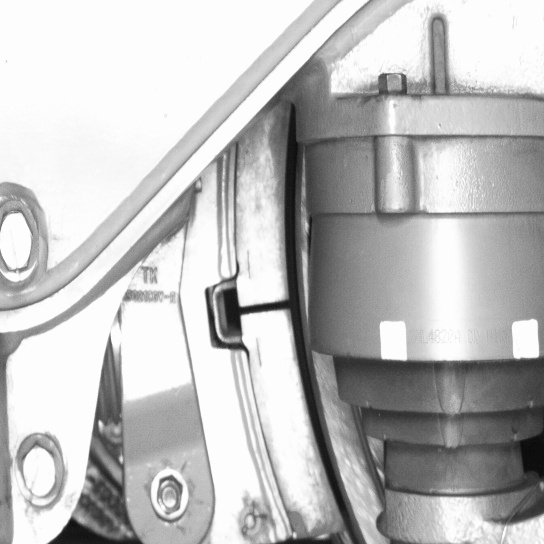KnifeSwitch: (234, 139, 371, 541)
